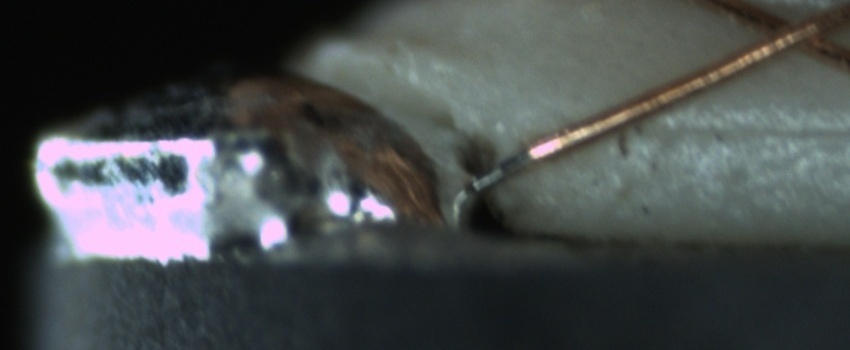CL: (741, 2, 841, 62)
DL: (633, 98, 845, 160)
TS: (467, 145, 539, 194)
TTCW: (460, 137, 573, 190)
